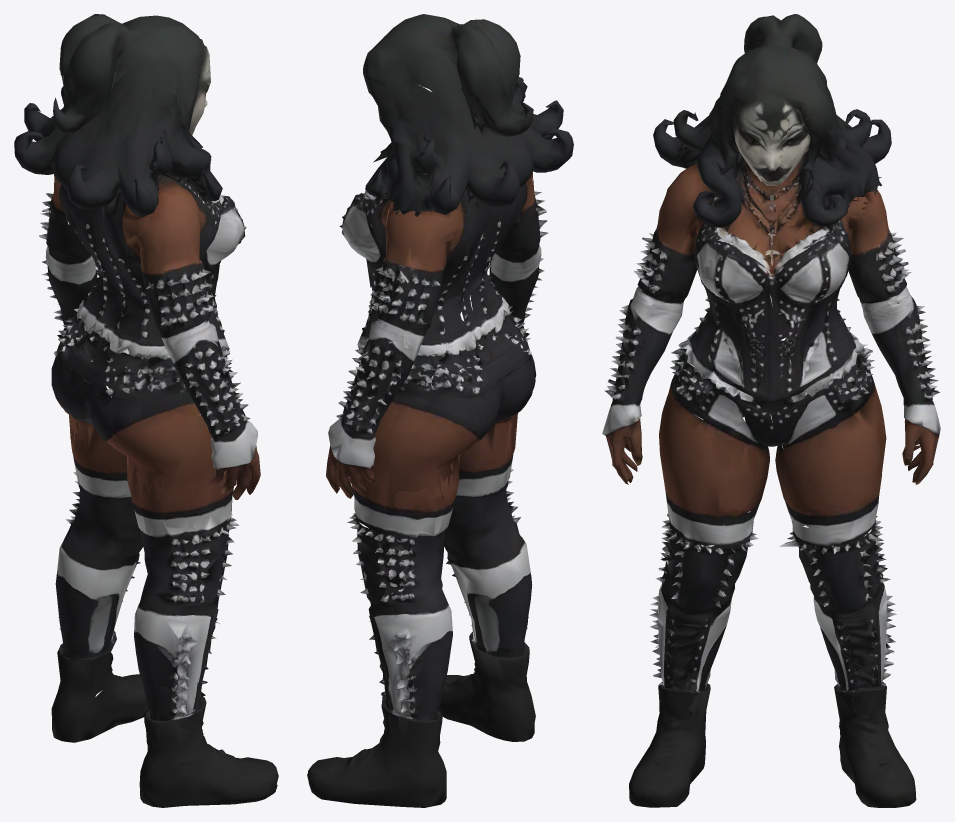
File: ONYX_corset_rigready.glb
3 views of the same model, side by side, from view 1: azimuth 30°, elevation 25°; view 2: azimuth 150°, elevation 25°; view 3: azimuth 270°, elevation 25° (orthographic).
Visible parts, largest first — view 1: chest, knL, elL, shL, knR, hipL, head, ftL, pelvis, ftR, hipR, shR (+1 smaller); view 2: chest, shR, knR, elR, knL, hipR, head, ftR, elL, pelvis, ftL, shL (+1 smaller); view 3: chest, elR, elL, knL, knR, head, shR, shL, hipL, ftR, pelvis, ftL (+3 smaller).
Part boxes in pixels (x1,y1,x2,y2): chest: [14, 62, 246, 293]; knL: [131, 473, 238, 744]; elL: [82, 225, 251, 435]; shL: [65, 87, 239, 338]; knR: [55, 424, 143, 695]; hipL: [88, 373, 260, 544]; head: [59, 14, 210, 142]; ftL: [139, 671, 278, 807]; pelvis: [52, 249, 137, 500]; ftR: [51, 620, 148, 742]; hipR: [45, 240, 126, 497]; shR: [24, 73, 109, 290]; chest: [339, 66, 573, 290]; shR: [346, 71, 521, 348]; knR: [348, 472, 456, 745]; elR: [326, 236, 468, 480]; knL: [444, 428, 531, 699]; hipR: [326, 282, 498, 544]; head: [363, 14, 520, 145]; ftR: [307, 675, 446, 807]; elL: [469, 179, 544, 379]; pelvis: [443, 254, 535, 498]; ftL: [438, 614, 535, 741]; shL: [480, 80, 563, 277]; chest: [678, 87, 868, 353]; elR: [777, 233, 940, 500]; elL: [604, 229, 774, 423]; knL: [649, 479, 758, 732]; knR: [779, 475, 896, 730]; head: [717, 14, 828, 170]; shR: [783, 85, 917, 344]; shL: [634, 101, 763, 330]; hipL: [602, 397, 755, 549]; ftR: [839, 652, 916, 807]; pelvis: [710, 295, 825, 522]; ftL: [629, 647, 705, 807].
Size of the model in its own units: 0.2511 by 0.9987 by 0.412.
Materials: 1 (1 with a texture image).
